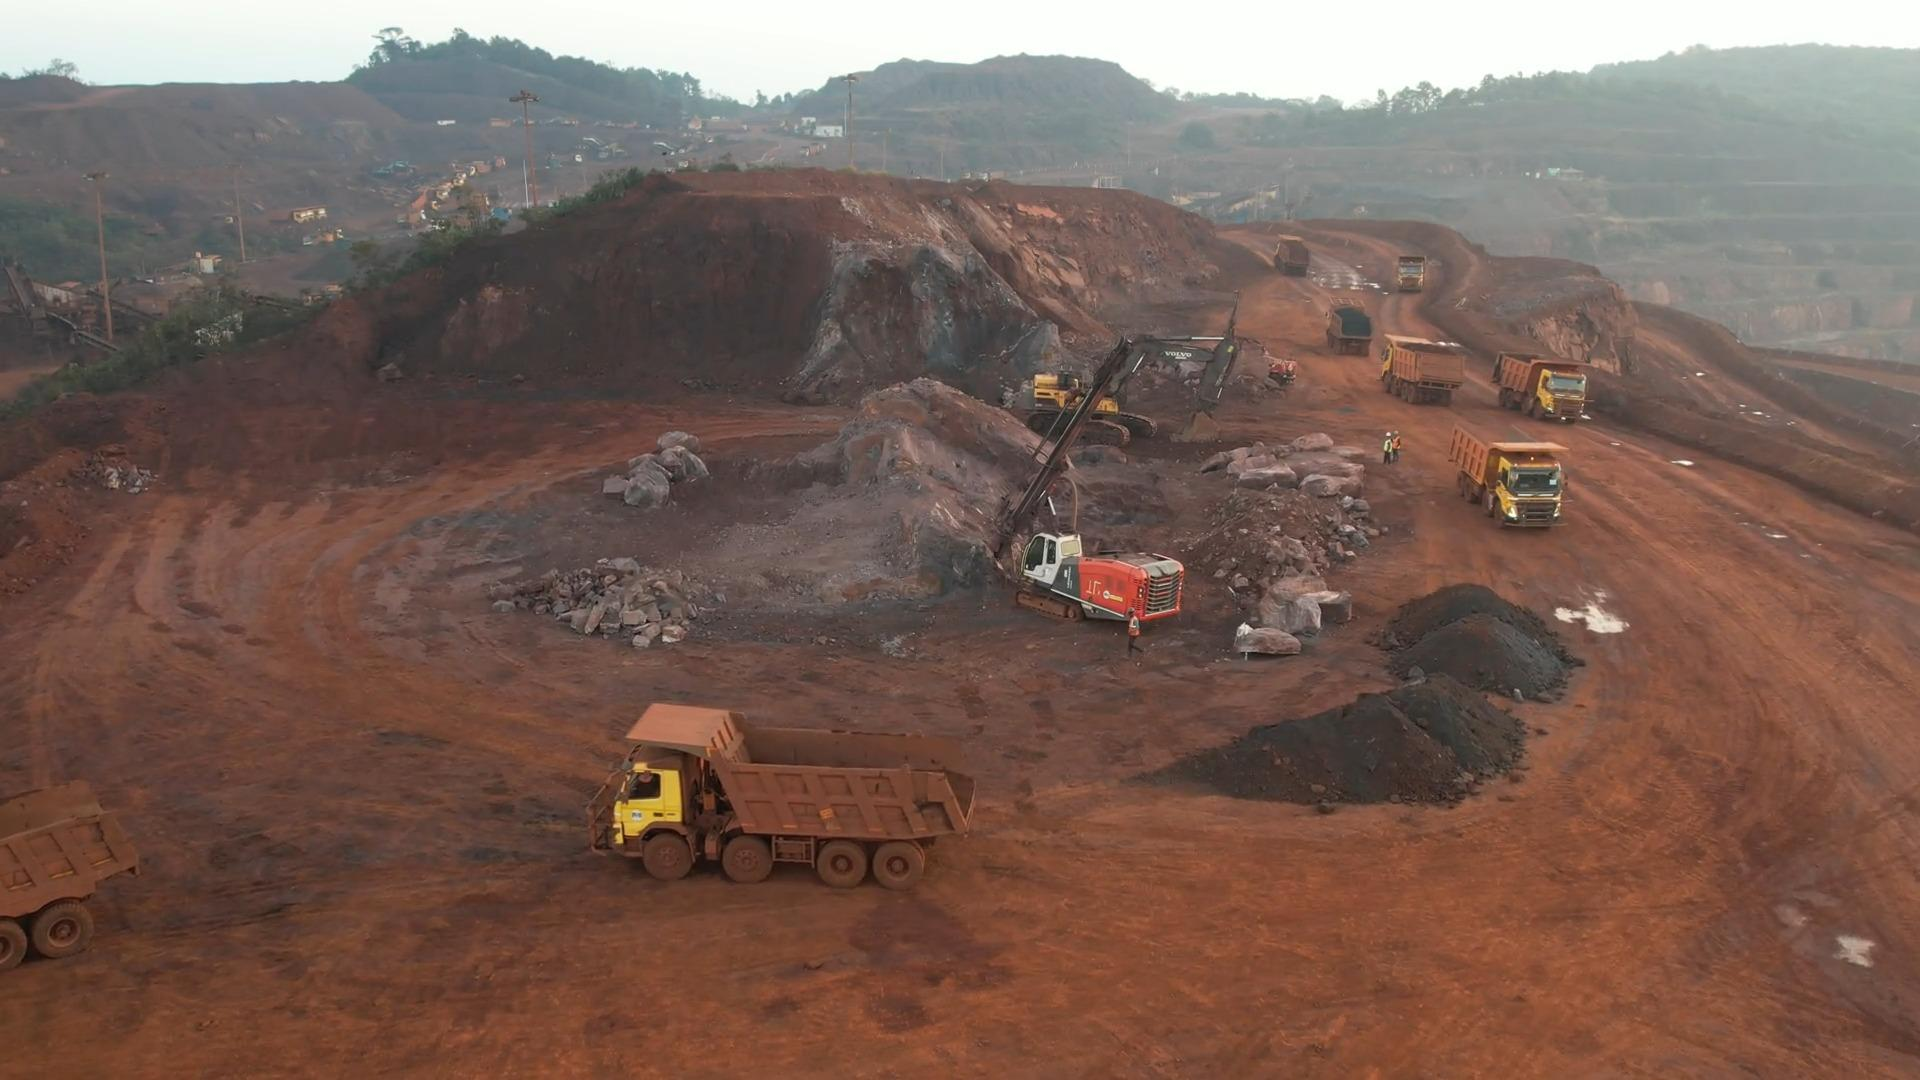excavator: (1027, 333, 1230, 436)
